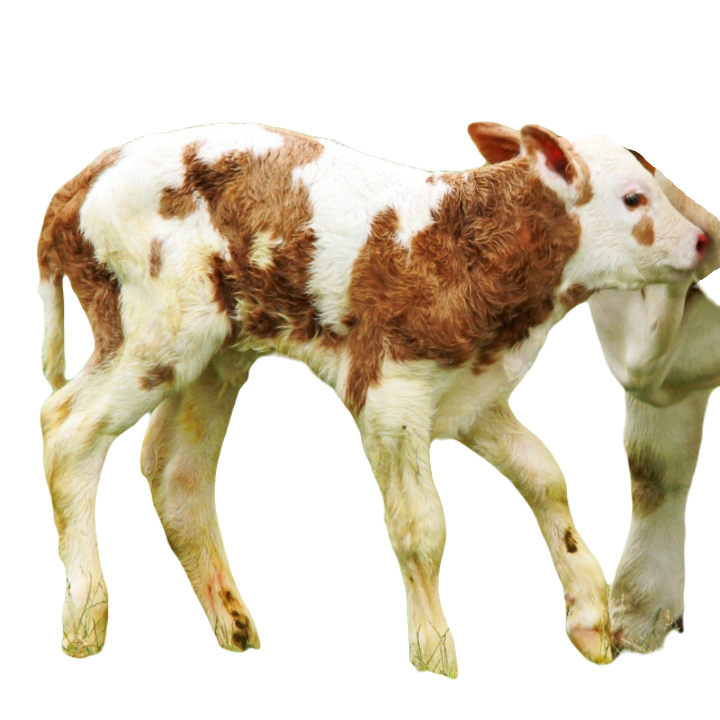Cow: (35, 123, 706, 673)
